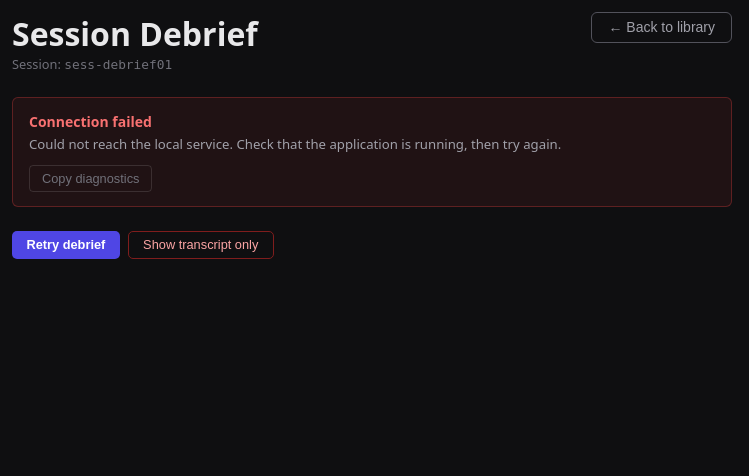
Test: Debrief screen › transcript-only fallback › clicking transcript-only loads transcript and shows transcript-only notice
Click the button with test id "transcript-only-btn" at (201, 245), box [128, 231, 274, 259]
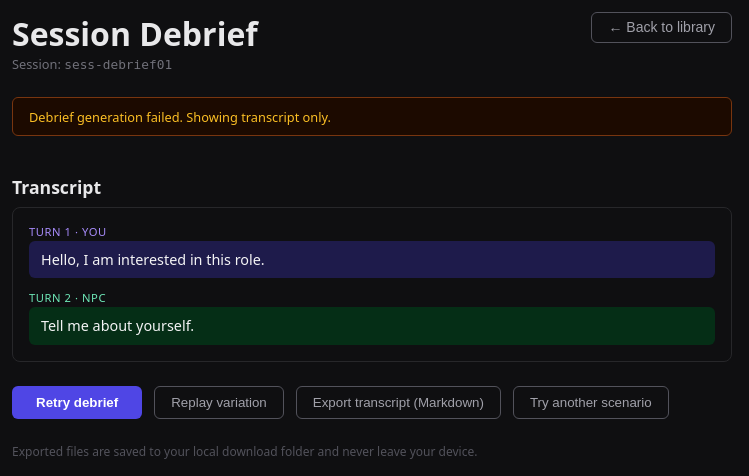
Check: the text "Debrief generation failed. Showing transcript only." is shown, box [12, 97, 732, 136]
Check: the text with test id "transcript-only-notice" shows "Debrief generation failed", box [29, 108, 331, 126]
